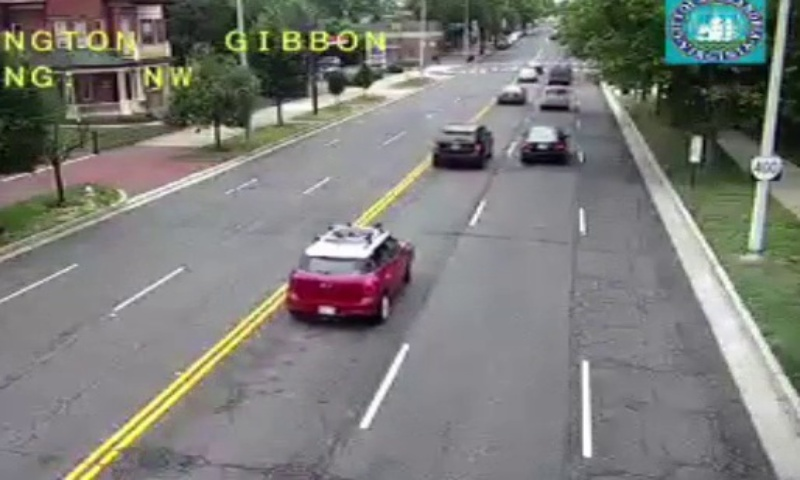car: (286, 224, 415, 320), (432, 124, 491, 164), (519, 127, 564, 160), (540, 86, 571, 109)
